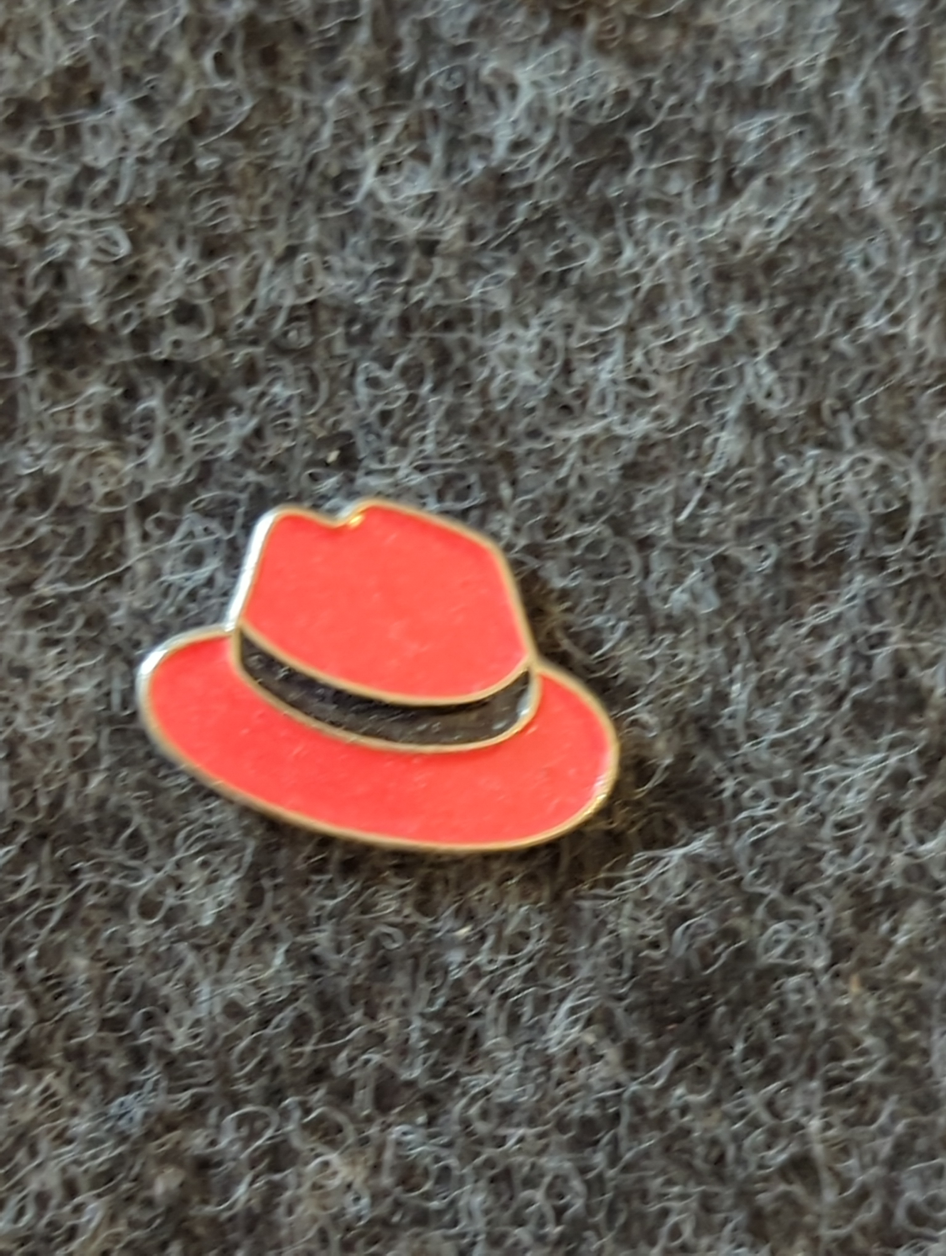Red-Hat: (38, 371, 716, 977)
